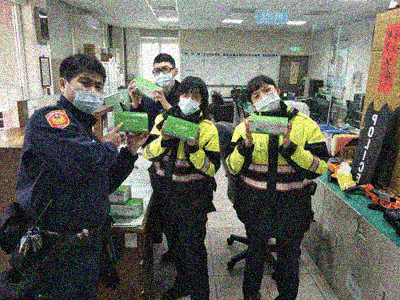with_mask: (66, 75, 105, 115), (251, 85, 281, 115), (177, 91, 202, 116), (152, 65, 175, 90)
